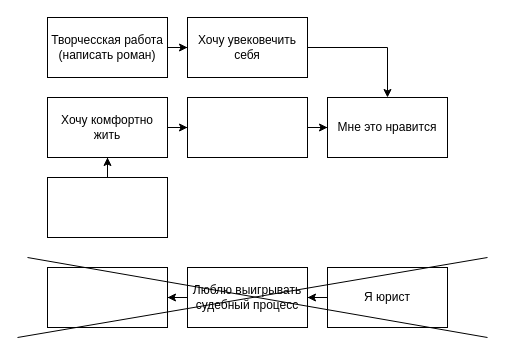
Some shapes in this 506 by 356 pixel diagram are drawn without their labels. The shapes that lost their labels are listed below. From the top down, each one's box as (x1, y1, x2, y2) in pixels, then its label:
(186, 96, 308, 158): Хочу высвободить время для семьи
(46, 176, 168, 238): У меня достаточно денег (1000000$), гонорар не нужен
(46, 266, 168, 328): Люблю получать гонорар
